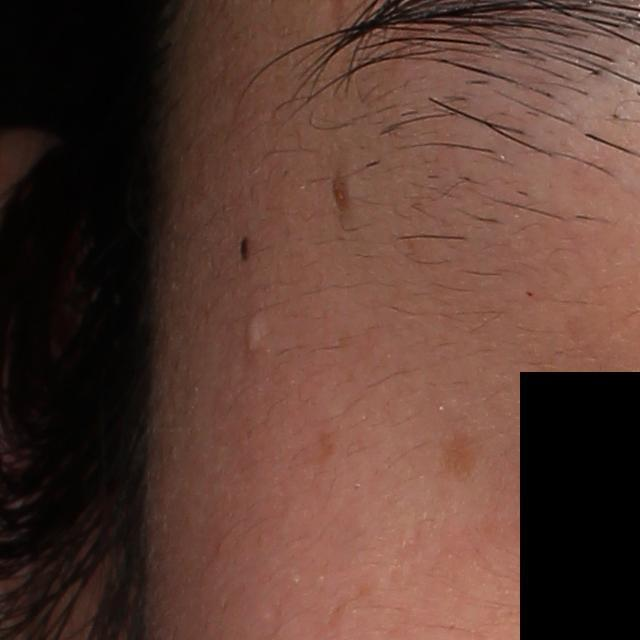melasma: (435, 437, 486, 486), (311, 423, 338, 468)
nevus: (327, 175, 350, 215), (235, 235, 252, 265)
